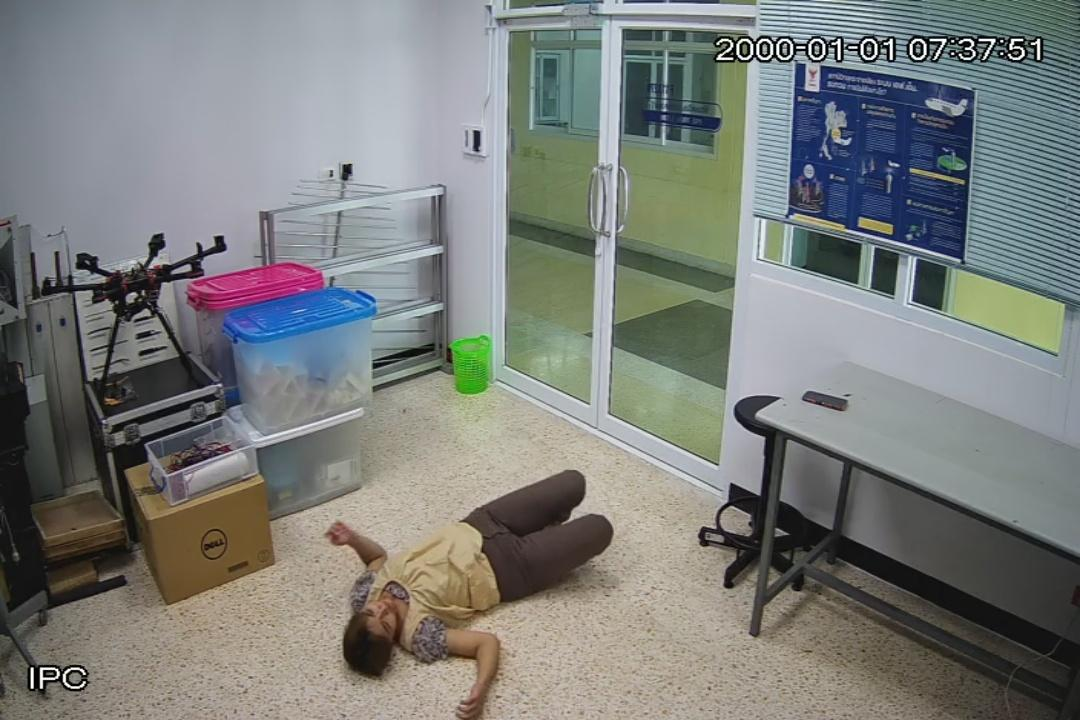fall: (322, 457, 613, 720)
